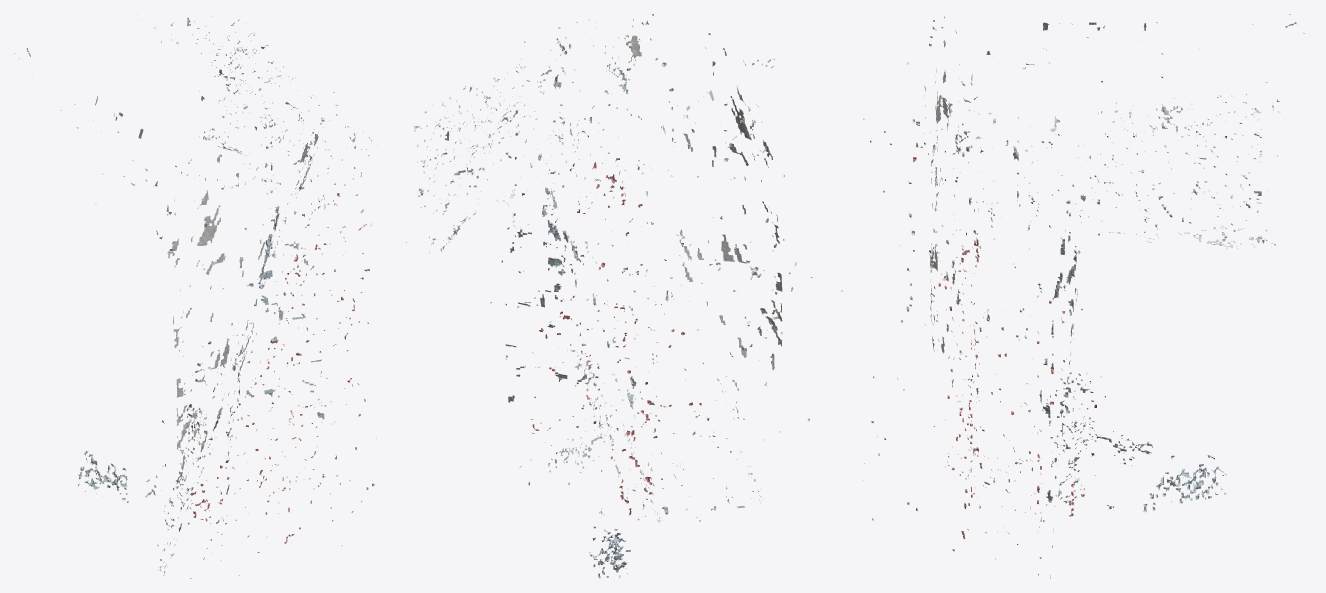
File: R1-뜬면-2__nojudge_ALS_s0__removed.glb
3 views of the same model, side by side, from view 1: azimuth 30°, elevation 25°; view 2: azimuth 150°, elevation 25°; view 3: azimuth 270°, elevation 25° (orthographic). The views are drawn at different scales.
Bounding box in the file's own units: 18.21 × 35.44 × 32.55.
